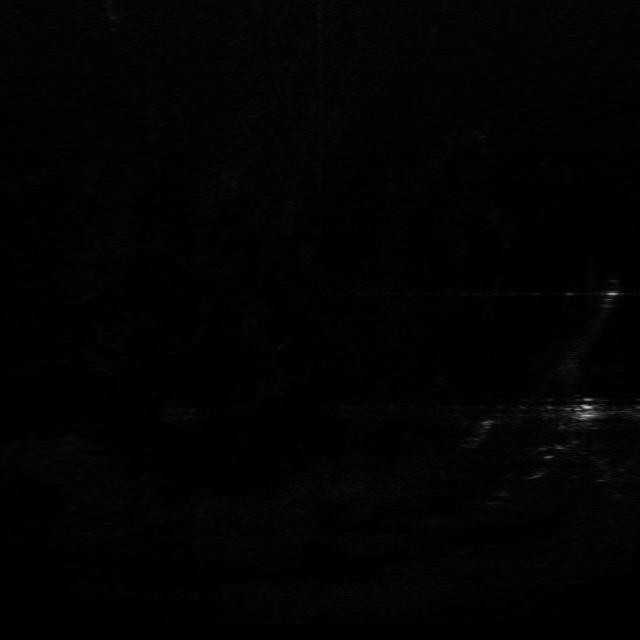rov: (568, 400, 601, 424)
